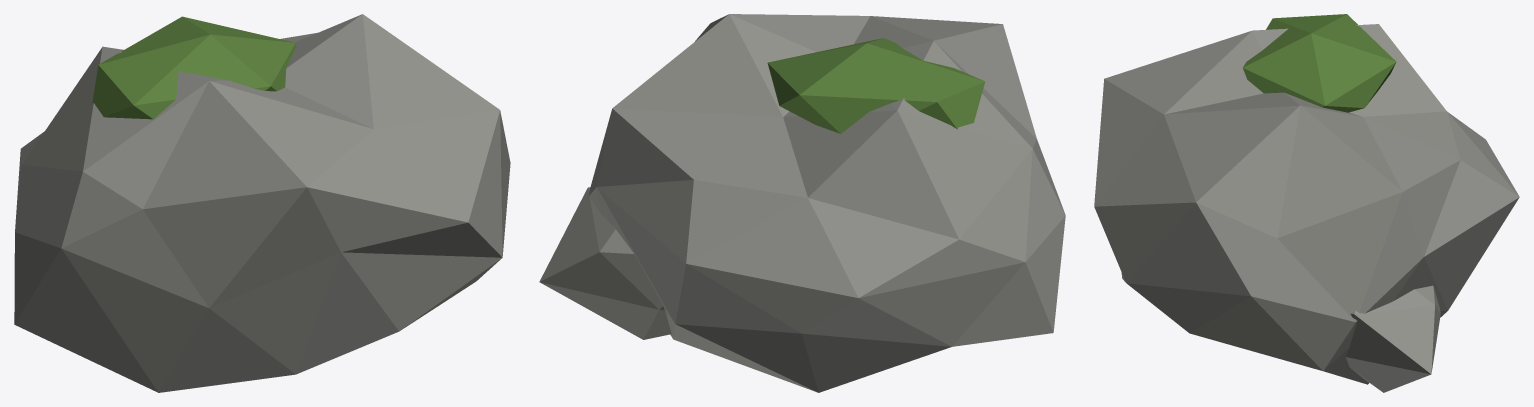
File: rock.glb
3 views of the same model, side by side, from view 1: azimuth 30°, elevation 25°; view 2: azimuth 150°, elevation 25°; view 3: azimuth 270°, elevation 25° (orthographic). The views are drawn at different scales.
Parts seen in each view (by area): view 1: Rock; view 2: Rock; view 3: Rock.
Boxes of the visible parts, x1=… form: Rock: x1=14, y1=14, x2=510, y2=392; Rock: x1=539, y1=14, x2=1065, y2=392; Rock: x1=1094, y1=14, x2=1519, y2=392.
Size of the model in its own units: 1.29 by 0.8518 by 1.17.
